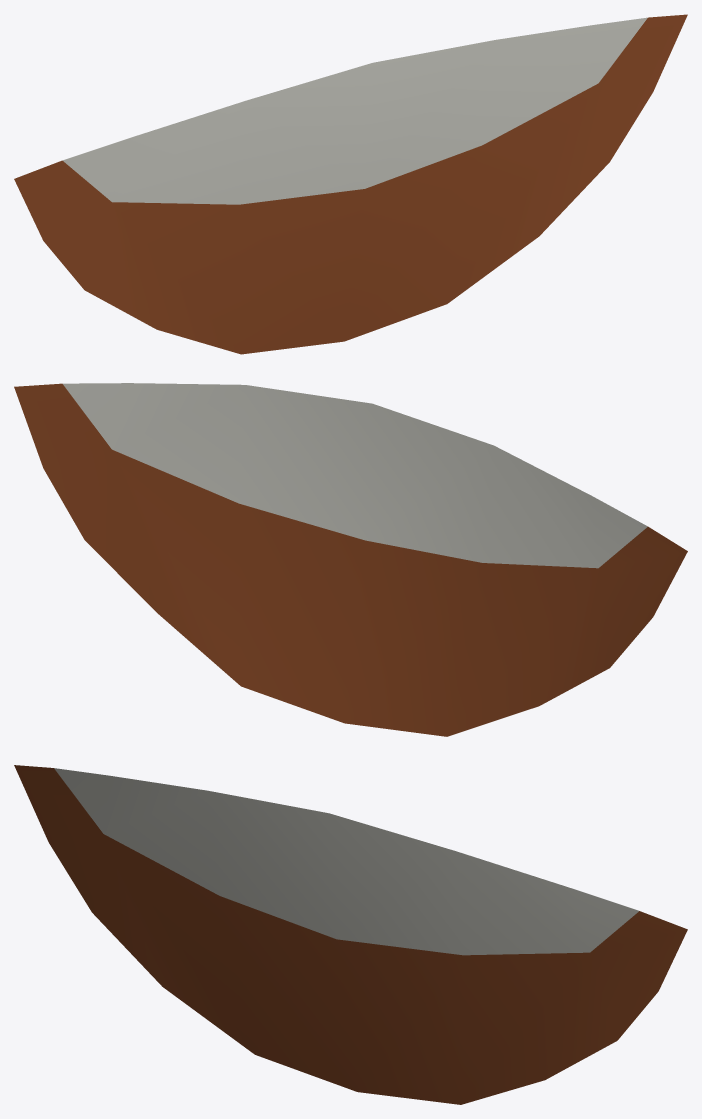
The model's file is Mouth_Yellow_8.fbx.
The picture shows the model from 3 angles, top to bottom: view 1: azimuth 30°, elevation 25°; view 2: azimuth 150°, elevation 25°; view 3: azimuth 330°, elevation 25°; orthographic projection.
Visible parts, largest first — view 1: Mouth_Yellow_8; view 2: Mouth_Yellow_8; view 3: Mouth_Yellow_8.
Boxes of the visible parts, <box> form: Mouth_Yellow_8: <box>14,14,687,354</box>; Mouth_Yellow_8: <box>14,383,687,736</box>; Mouth_Yellow_8: <box>14,765,687,1104</box>.
Size of the model in its own units: 9.33 by 3.96 by 0.6817.
